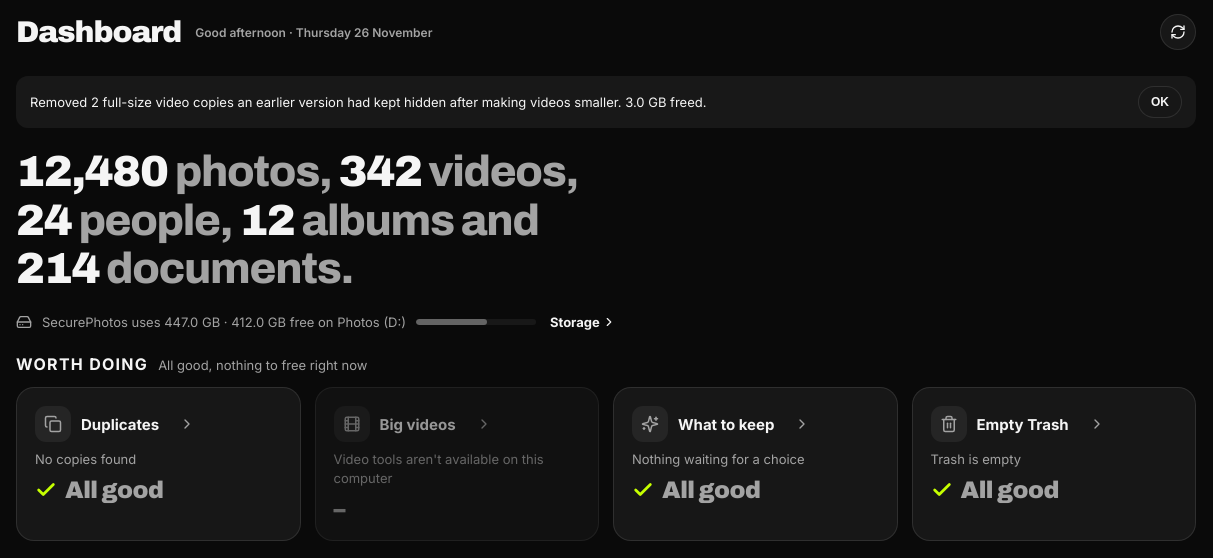
Test case: DashboardView cleanup note › shows the space freed by the one-off cleanup until OK is pressed
The image size is (1213, 558).
Expected: the message shows "Removed 2 full-size video copies an earlier version had kept hidden after making videos smaller. 3.0 GB freed.", [30,94,706,110]
Click the button "OK": (1160, 102) [1138,86,1182,118]
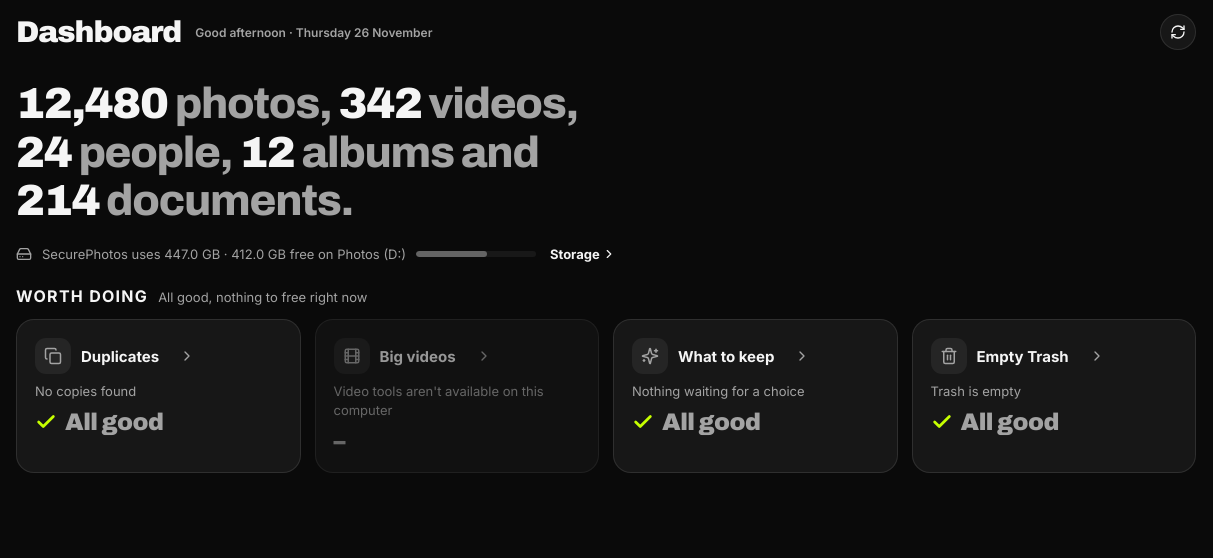
Expected: the message is gone
